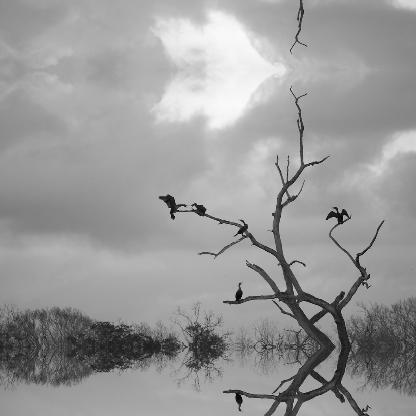Bird: (158, 192, 188, 218), (324, 204, 350, 224), (186, 200, 208, 216), (232, 281, 246, 301), (232, 391, 246, 411), (234, 216, 249, 234)
